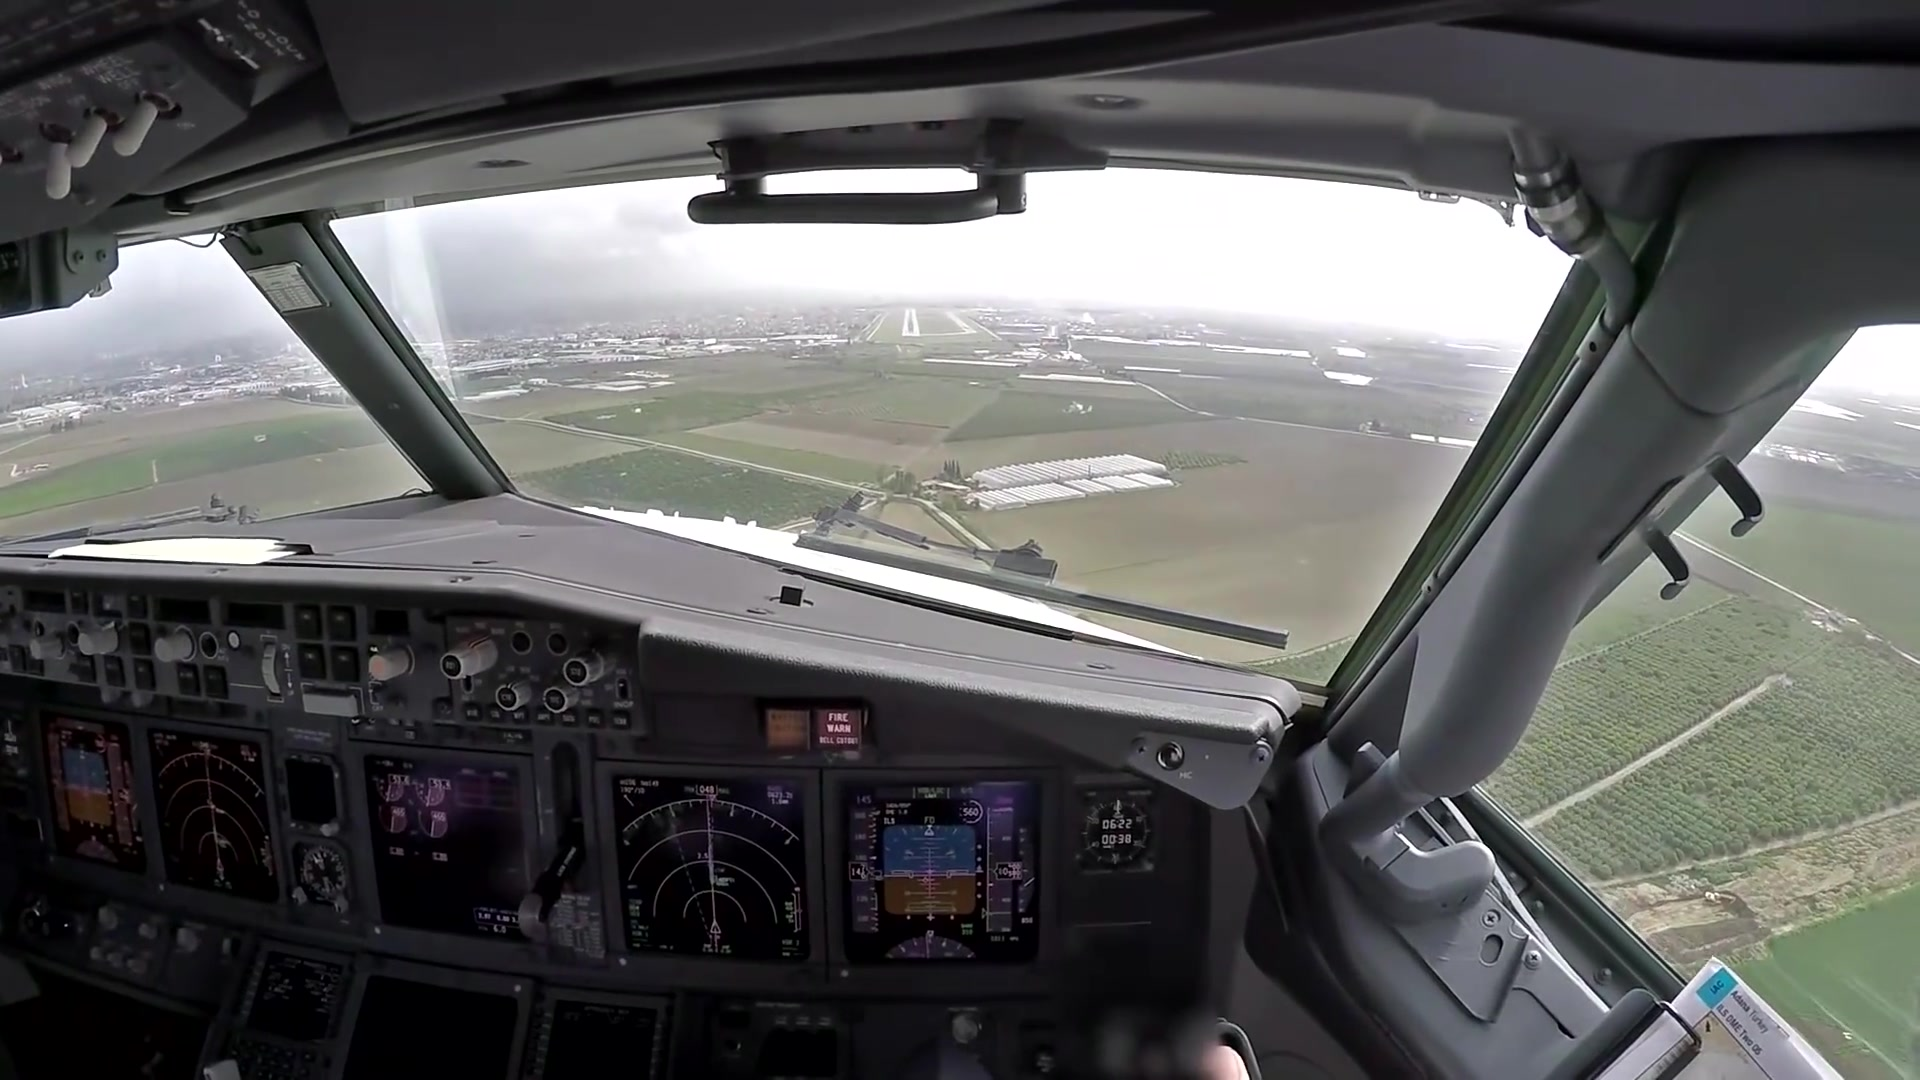runway: (899, 309, 920, 336)
